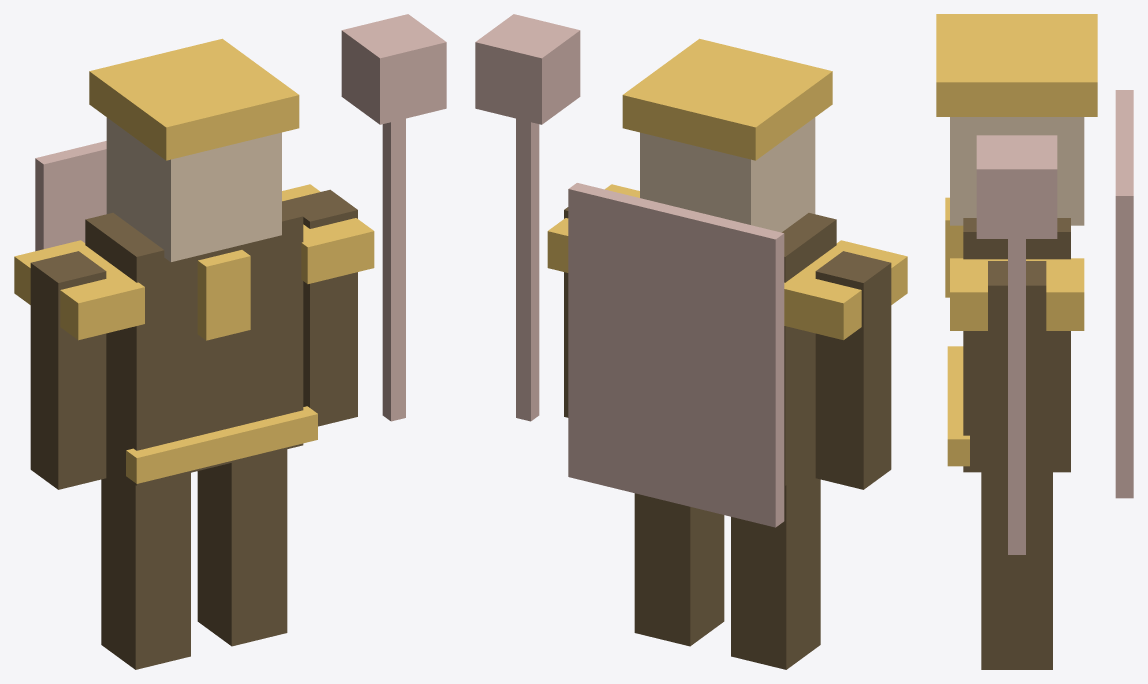
Rendered from 12_auren_holloway_watcher_from.glb.
3 renders of one model, left to right at view 1: azimuth 30°, elevation 25°; view 2: azimuth 150°, elevation 25°; view 3: azimuth 270°, elevation 25°, orthographic. The views are drawn at different scales.
Parts seen in each view (by area): view 1: Auren Holloway, Watcher from; view 2: Auren Holloway, Watcher from; view 3: Auren Holloway, Watcher from.
Boxes of the visible parts, bbox=[...] form: Auren Holloway, Watcher from: bbox=[14, 14, 446, 669]; Auren Holloway, Watcher from: bbox=[475, 14, 907, 669]; Auren Holloway, Watcher from: bbox=[936, 14, 1133, 669].
Size of the model in its own units: 1.08 by 1.5 by 0.4602.
